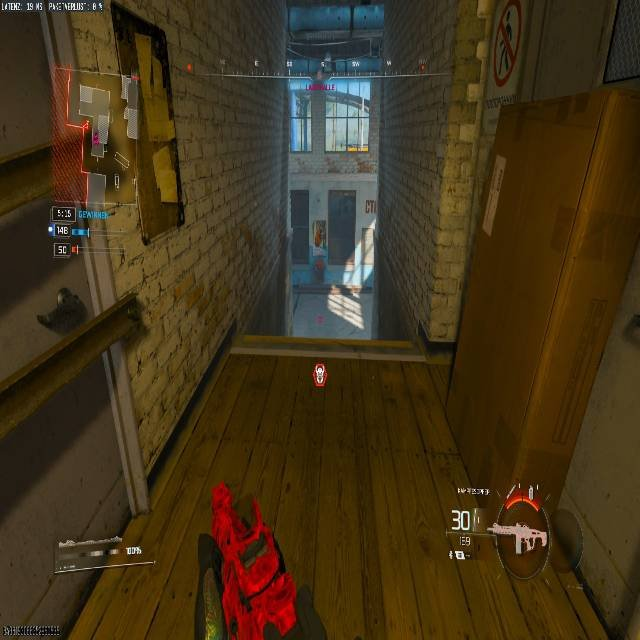head: (231, 492, 263, 541)
player: (36, 286, 85, 331), (308, 218, 330, 288)
